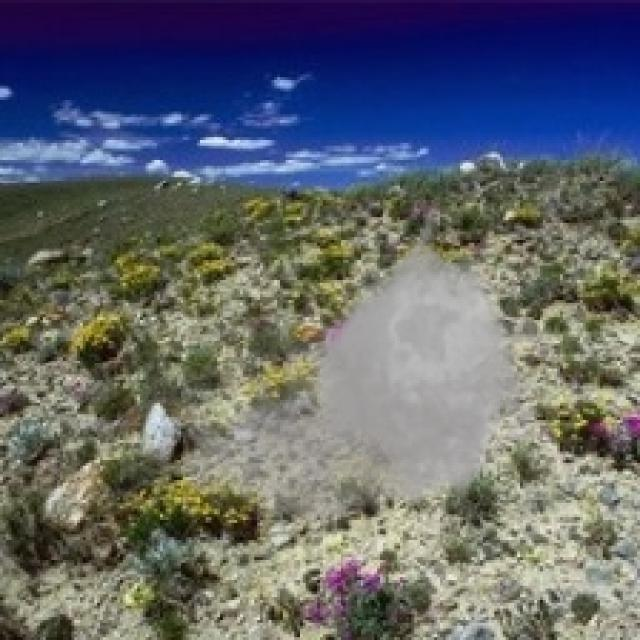smoke: (177, 197, 563, 543)
